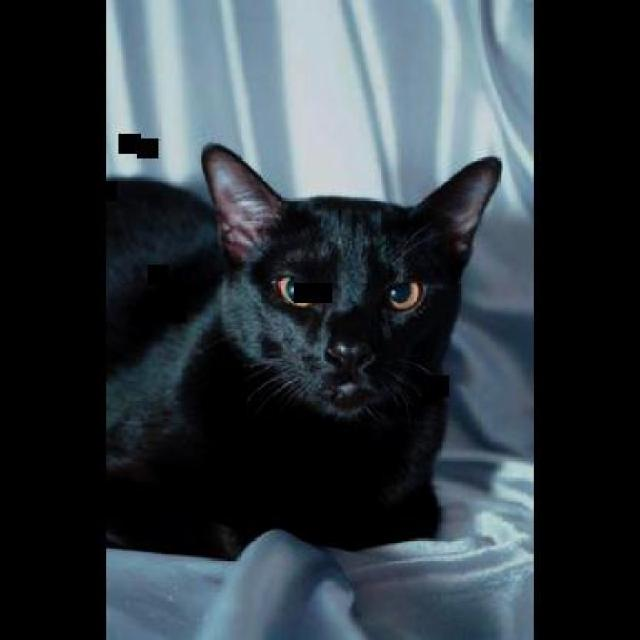unauthorized: (104, 140, 502, 560)
